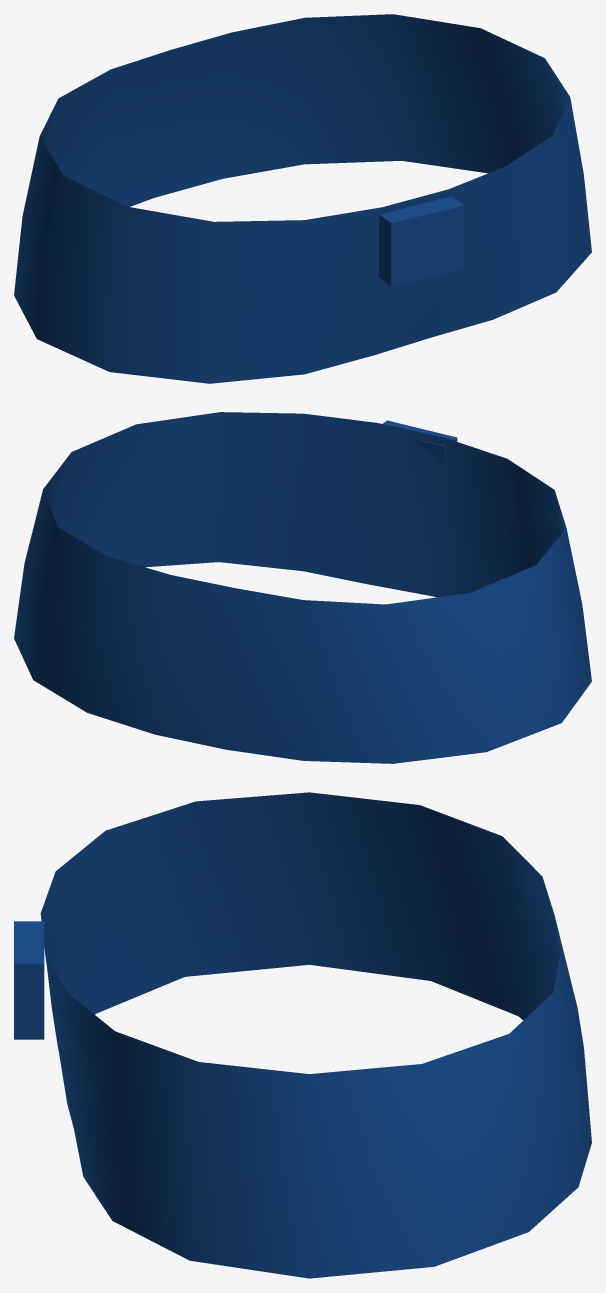
The model's file is cobalt_armor_belt.glb.
3 renders of one model, top to bottom at view 1: azimuth 30°, elevation 25°; view 2: azimuth 150°, elevation 25°; view 3: azimuth 270°, elevation 25°, orthographic. The views are drawn at different scales.
Visible parts, largest first — view 1: cobalt_armor_belt; view 2: cobalt_armor_belt; view 3: cobalt_armor_belt.
Part boxes in pixels (box(x1,y1,x2,y2)): cobalt_armor_belt: box(14, 14, 591, 383); cobalt_armor_belt: box(14, 412, 591, 763); cobalt_armor_belt: box(14, 792, 591, 1278).
Size of the model in its own units: 0.4427 by 0.1238 by 0.3446.
